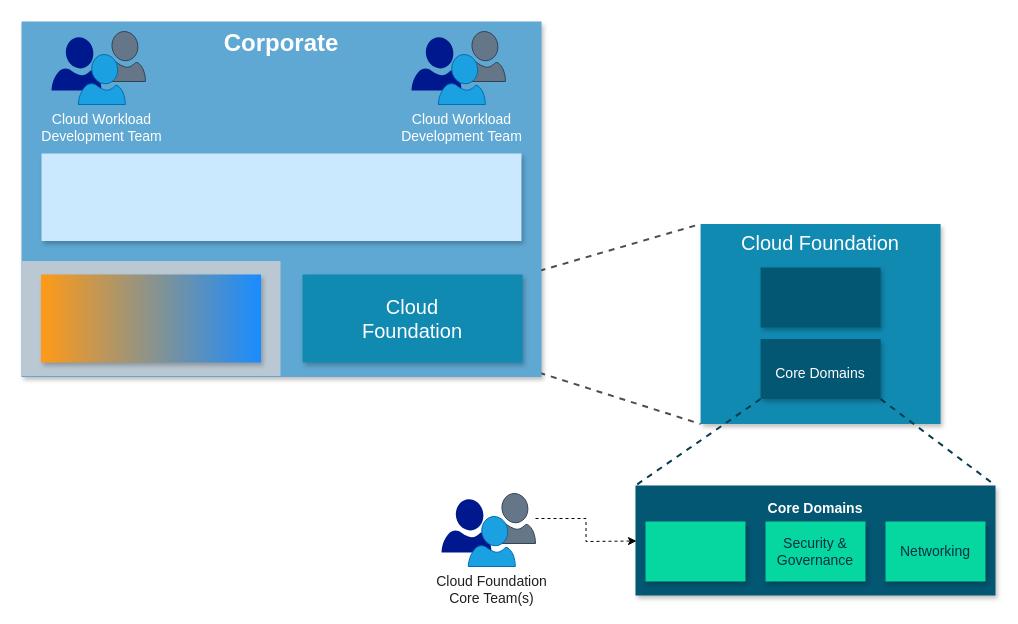
Some shapes in this 1018 by 624 pixel diagram are drawn without their labels. Each missing label, with the centre of its shape:
"Cloud Consumer" goes at pixel 282 198.
"Cloud Provider AWS / Azure" goes at pixel 151 319.
"Management" goes at pixel 696 552.
"Shared Service Domains" goes at pixel 821 298.
